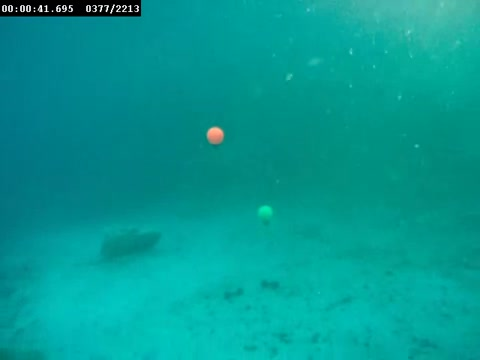buoy_green: (256, 204, 274, 228)
buoy_red: (204, 122, 224, 151)
